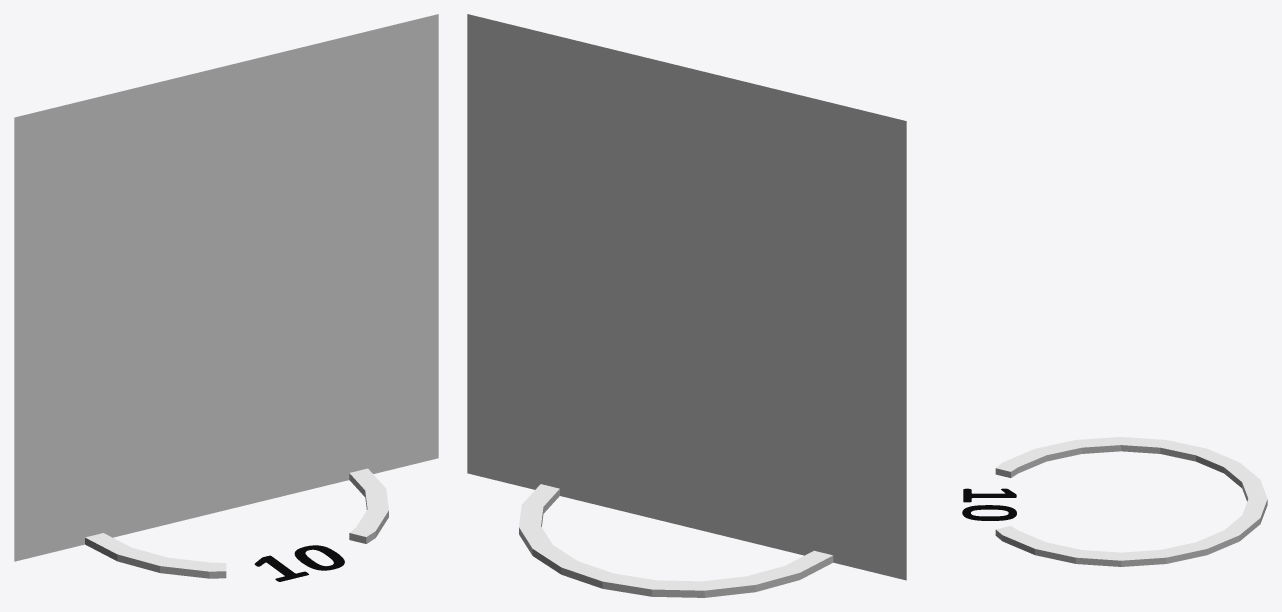
The picture shows the model from 3 angles, left to right: view 1: azimuth 30°, elevation 25°; view 2: azimuth 150°, elevation 25°; view 3: azimuth 270°, elevation 25°; orthographic projection. The views are drawn at different scales.
Visible parts, largest first — view 1: c_face_Plane.003, c_back_Plane.006, tt_base_Cylinder.001, icon_Plane.005; view 2: c_back_Plane.006, c_face_Plane.003, tt_base_Cylinder.001; view 3: tt_base_Cylinder.001, icon_Plane.005.
Boxes of the visible parts, box(x1,y1,x2,y2) form: c_face_Plane.003: box(14, 14, 438, 509); c_back_Plane.006: box(14, 110, 253, 561); tt_base_Cylinder.001: box(85, 468, 388, 578); icon_Plane.005: box(254, 545, 344, 581); c_back_Plane.006: box(467, 14, 906, 529); c_face_Plane.003: box(679, 109, 906, 580); tt_base_Cylinder.001: box(519, 484, 833, 597); tt_base_Cylinder.001: box(995, 437, 1267, 566); icon_Plane.005: box(962, 488, 1016, 520).
Bounding box in the file's own units: 3 × 3 × 2.27.
